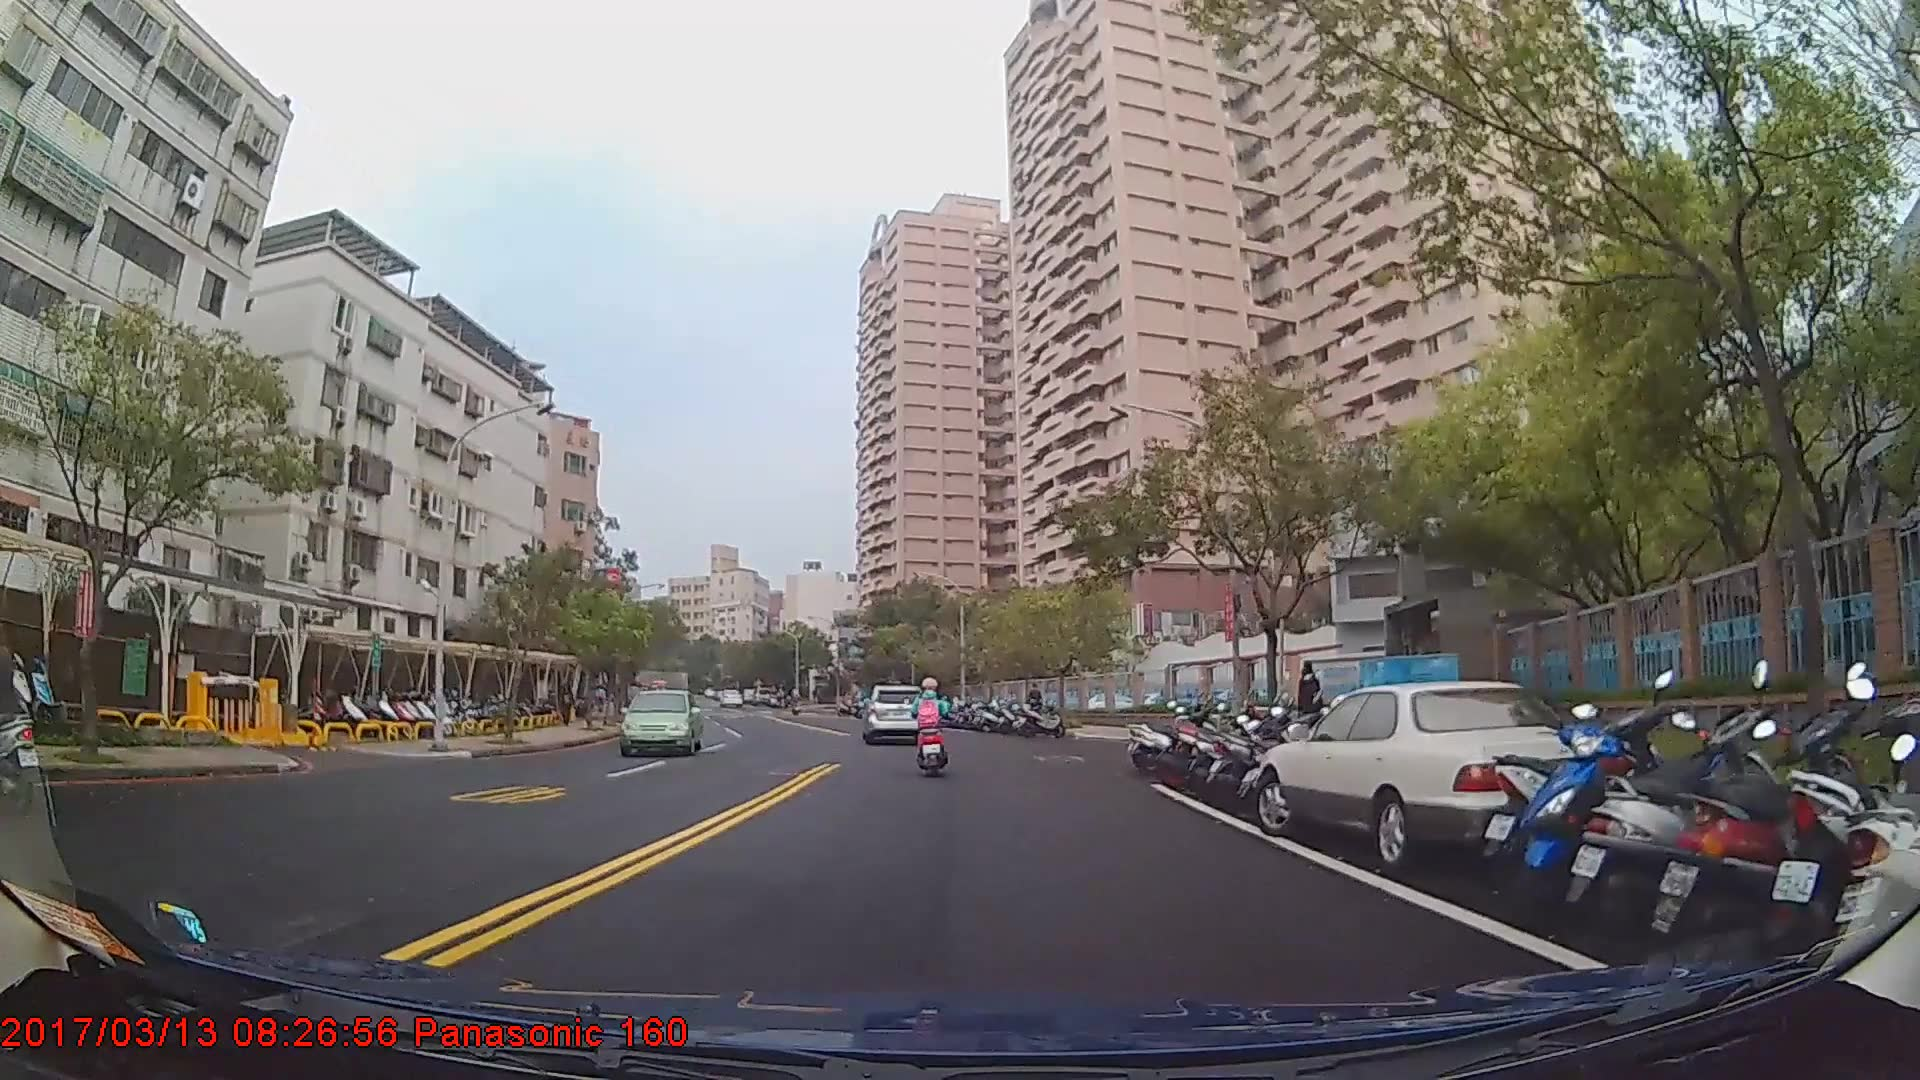pedestrian: (1297, 659, 1328, 751), (1026, 682, 1046, 728)
rider: (1, 636, 35, 801), (911, 675, 953, 780)
vehicle: (1258, 677, 1660, 867), (620, 686, 702, 754), (865, 681, 932, 742)
